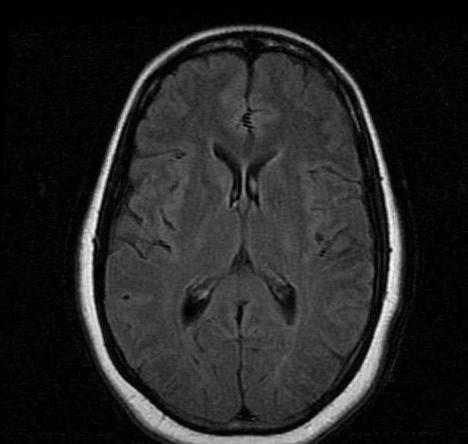Normal_Brain: (17, 10, 468, 444)
